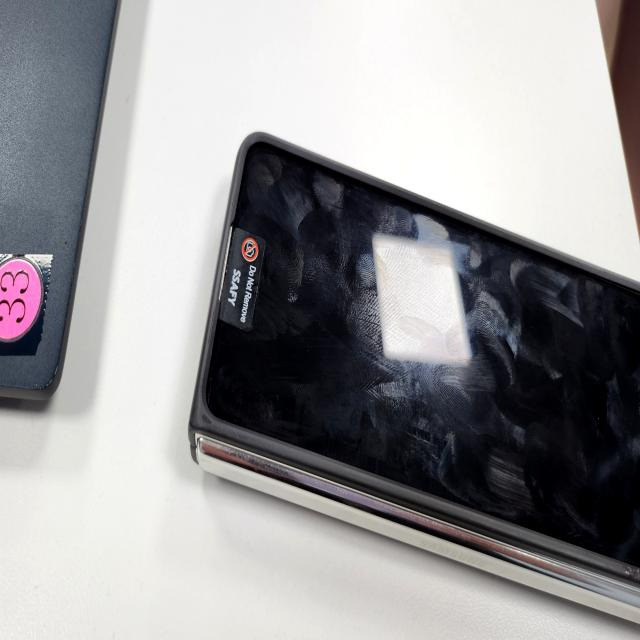phone: (190, 120, 640, 624)
sticker: (220, 224, 266, 336)
